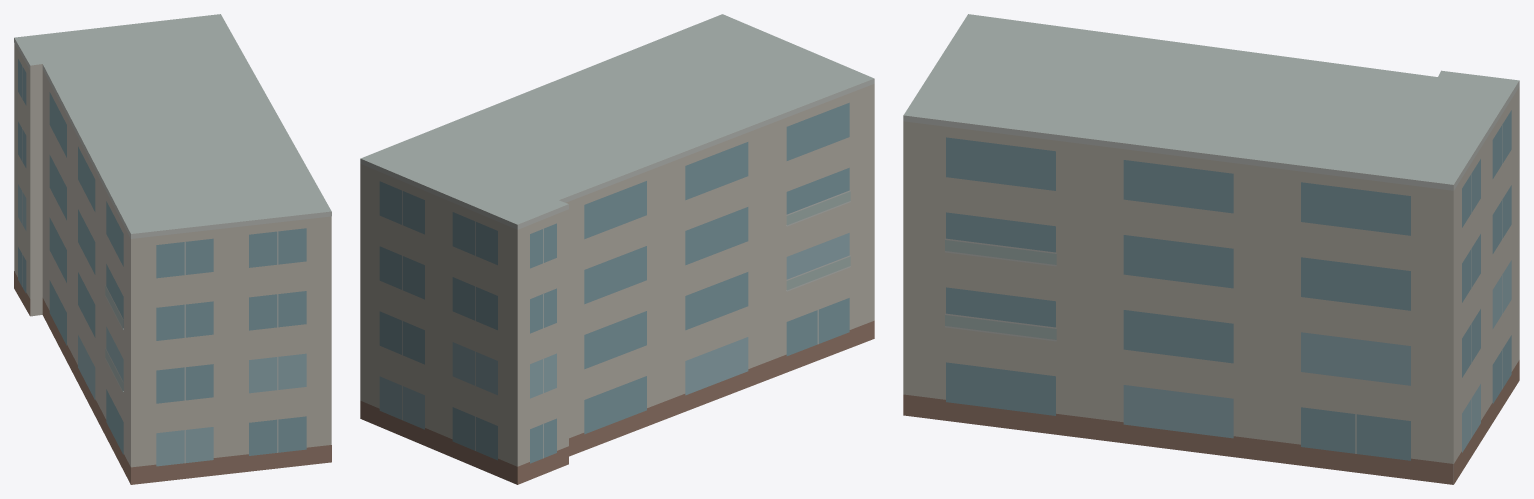
Rendered from survey-upis-32564878.glb.
3 views of the same model, side by side, from view 1: azimuth 30°, elevation 25°; view 2: azimuth 150°, elevation 25°; view 3: azimuth 270°, elevation 25° (orthographic). The views are drawn at different scales.
Visible parts, largest first — view 1: survey-upis-32564878.tmp; view 2: survey-upis-32564878.tmp; view 3: survey-upis-32564878.tmp.
Boxes of the visible parts, x1,y1,x2,y2 form: survey-upis-32564878.tmp: (14, 14, 331, 484); survey-upis-32564878.tmp: (360, 14, 874, 484); survey-upis-32564878.tmp: (903, 14, 1519, 484).
Size of the model in its own units: 15.16 by 12.4 by 23.09.
